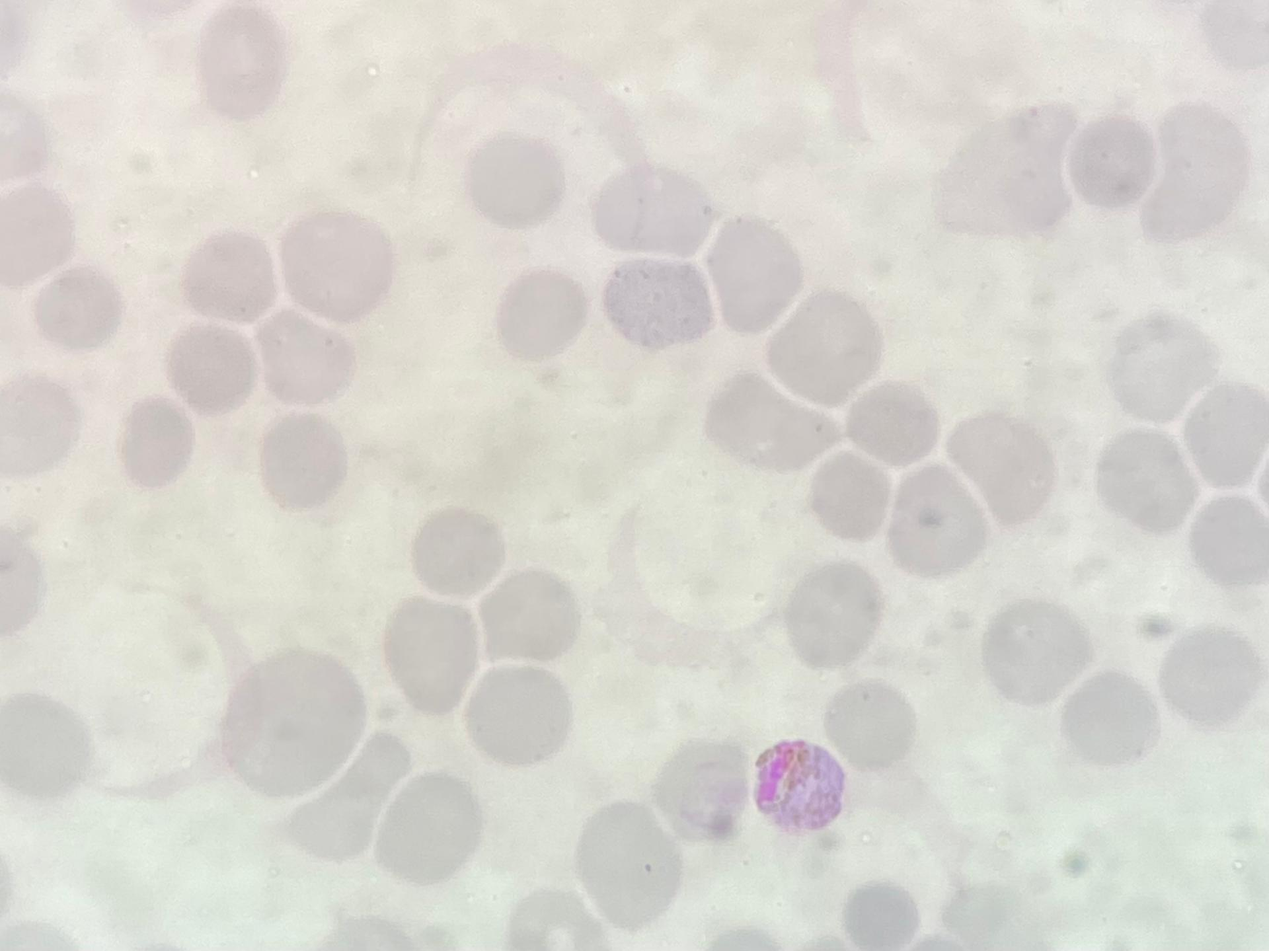Infected: (752, 734, 847, 830)
Uninfected: (215, 648, 369, 798), (925, 95, 1083, 232), (280, 730, 416, 864), (1135, 98, 1250, 244), (572, 802, 685, 929), (370, 769, 486, 888), (701, 369, 831, 475), (276, 208, 397, 321), (765, 289, 880, 404), (946, 410, 1056, 529), (1104, 311, 1216, 424), (884, 460, 993, 576), (381, 593, 484, 712), (980, 597, 1093, 705), (592, 165, 715, 260), (461, 662, 572, 766), (780, 560, 884, 669), (1095, 426, 1197, 535), (704, 217, 802, 330), (1157, 626, 1261, 729), (253, 307, 360, 406), (475, 566, 580, 666), (195, 6, 287, 118), (1178, 377, 1269, 489), (603, 258, 714, 348), (1065, 110, 1160, 215), (0, 690, 91, 799), (650, 738, 748, 839), (178, 228, 281, 323), (1058, 671, 1159, 767), (462, 133, 564, 227), (257, 410, 351, 511), (163, 320, 260, 416), (806, 447, 898, 547), (408, 506, 506, 599), (841, 379, 940, 471), (493, 270, 588, 362), (822, 679, 916, 770), (2, 373, 83, 478), (1, 182, 78, 287), (1184, 492, 1269, 587), (30, 265, 121, 351), (118, 395, 196, 488), (505, 888, 601, 950), (841, 881, 920, 946)
